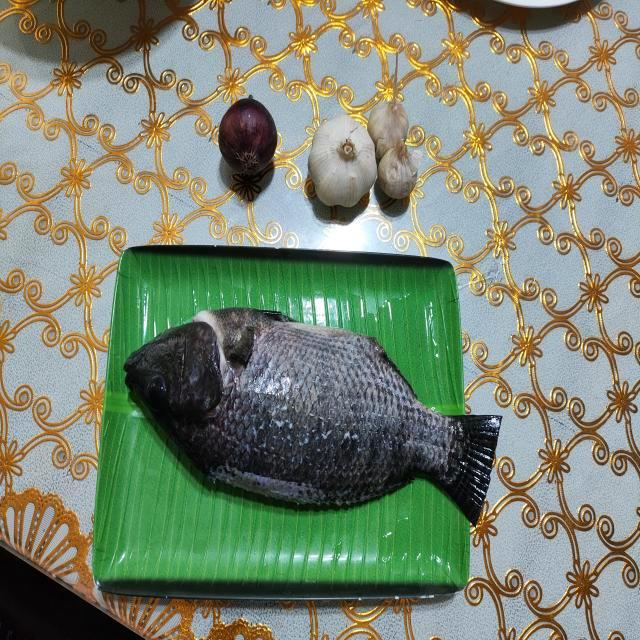garlic: (309, 92, 417, 216)
onion: (125, 303, 500, 524), (219, 94, 278, 186)
